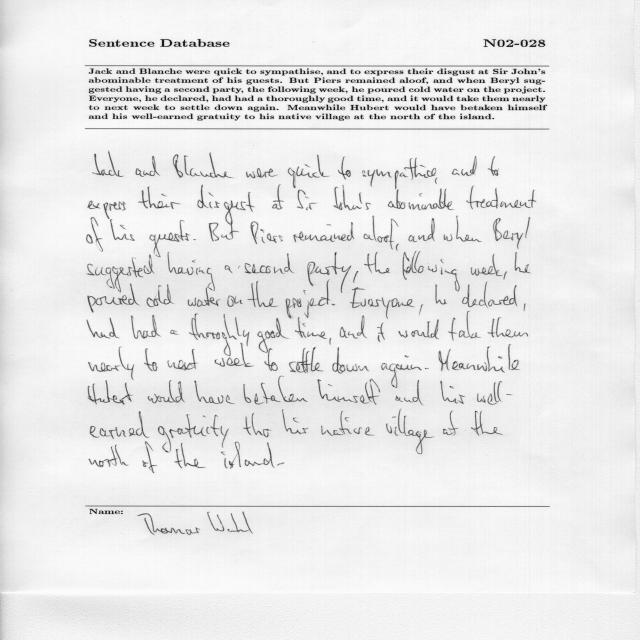word: (197, 185, 255, 240), (158, 415, 229, 453), (87, 255, 155, 293), (189, 313, 249, 356), (402, 251, 460, 292), (439, 344, 520, 373), (363, 158, 438, 189), (386, 409, 434, 454), (286, 280, 335, 319), (243, 376, 308, 405), (308, 252, 352, 293), (150, 220, 197, 257), (90, 411, 149, 439), (318, 379, 381, 405), (467, 186, 537, 209), (173, 152, 233, 178), (88, 284, 140, 313), (462, 281, 517, 308), (89, 347, 134, 380), (221, 442, 275, 469), (388, 189, 454, 211), (288, 155, 329, 189), (321, 411, 374, 436), (381, 356, 422, 388), (364, 216, 399, 251), (293, 222, 354, 242), (493, 217, 530, 249), (238, 253, 294, 274), (88, 380, 133, 405), (257, 318, 289, 353), (163, 442, 206, 468), (168, 252, 212, 277), (368, 297, 414, 319), (448, 311, 481, 341), (194, 381, 235, 405), (138, 186, 180, 209), (444, 216, 481, 242), (332, 348, 369, 374), (188, 278, 221, 307), (333, 185, 371, 210), (215, 343, 254, 367), (289, 347, 324, 373), (89, 445, 129, 467), (148, 380, 185, 403), (488, 318, 529, 338), (93, 151, 124, 177), (247, 281, 278, 307), (477, 381, 512, 404), (471, 411, 503, 436), (398, 320, 439, 339), (251, 221, 283, 244), (131, 315, 161, 339), (471, 254, 503, 276), (295, 317, 327, 339), (396, 380, 424, 405), (244, 413, 272, 438), (88, 201, 126, 219), (167, 349, 198, 371), (87, 318, 120, 338), (282, 410, 308, 435), (340, 315, 367, 339), (146, 284, 174, 307), (440, 381, 465, 404), (364, 252, 390, 274), (87, 217, 103, 252), (110, 219, 135, 241), (136, 156, 160, 177), (142, 442, 157, 473), (297, 190, 317, 211), (418, 218, 435, 241), (443, 411, 458, 436), (515, 252, 531, 273), (350, 287, 366, 308), (264, 348, 278, 371), (461, 156, 477, 176), (246, 168, 277, 178), (272, 185, 284, 210), (145, 349, 158, 372), (338, 157, 351, 179), (436, 285, 448, 305), (488, 156, 499, 176), (209, 223, 219, 242), (227, 296, 243, 307), (377, 323, 385, 342), (225, 265, 233, 273), (409, 235, 418, 242), (354, 271, 359, 283), (452, 169, 460, 175), (420, 304, 424, 314), (170, 330, 179, 334), (504, 272, 508, 280), (277, 463, 285, 466), (524, 303, 526, 311), (330, 338, 332, 345), (425, 368, 429, 369), (230, 239, 231, 239)
